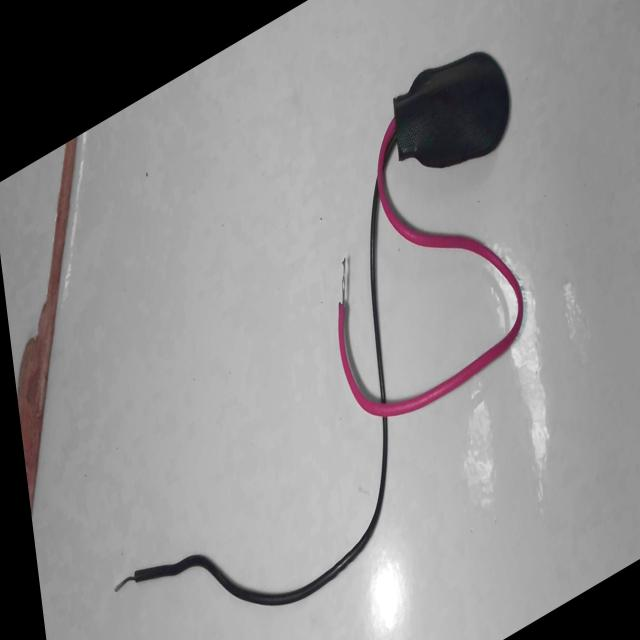Battery Holder: (306, 13, 551, 492)
